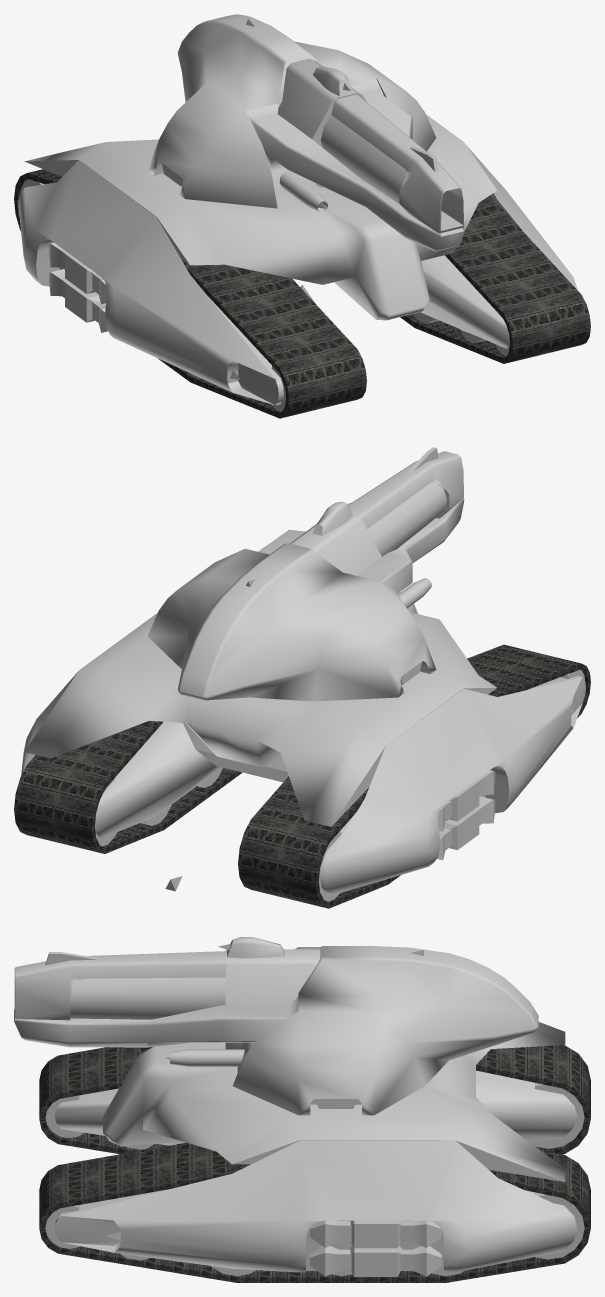
The model's file is ivatnk00.fbx.
3 renders of one model, top to bottom at view 1: azimuth 30°, elevation 25°; view 2: azimuth 150°, elevation 25°; view 3: azimuth 270°, elevation 25°, orthographic.
Visible parts, largest first — view 1: tread_r, main_body, turret_y, tractor_r, tractor_l, turret_x, recoil1, tread_l, recoil3; view 2: turret_y, main_body, tread_r, tractor_r, tractor_l, tread_l, turret_x, recoil1; view 3: tread_l, turret_y, main_body, tractor_l, turret_x, recoil1, tractor_r, tread_r, recoil2.
Boxes of the visible parts, x1,y1,x2,y2 form: tread_r: (18, 160, 293, 411); main_body: (24, 114, 497, 320); turret_y: (147, 14, 436, 208); tractor_r: (14, 169, 366, 418); tractor_l: (400, 195, 590, 363); turret_x: (246, 58, 464, 251); recoil1: (320, 94, 463, 233); tread_l: (413, 145, 577, 356); recoil3: (279, 171, 327, 212); turret_y: (147, 543, 436, 701); main_body: (24, 592, 496, 826); tread_r: (245, 670, 585, 901); tractor_r: (238, 644, 590, 908); tractor_l: (14, 720, 242, 853); tread_l: (21, 672, 253, 846); turret_x: (258, 499, 464, 593); recoil1: (349, 447, 463, 556); tread_l: (45, 1140, 584, 1276); turret_y: (233, 946, 538, 1115); main_body: (103, 1022, 565, 1181); tractor_l: (39, 1142, 590, 1282); turret_x: (14, 937, 320, 1072); recoil1: (14, 951, 225, 1020); tractor_r: (39, 1045, 590, 1154); tread_r: (45, 1070, 584, 1149); recoil2: (170, 1049, 244, 1066).
Bounding box in the file's own units: 7.79 × 4.97 × 9.6.
